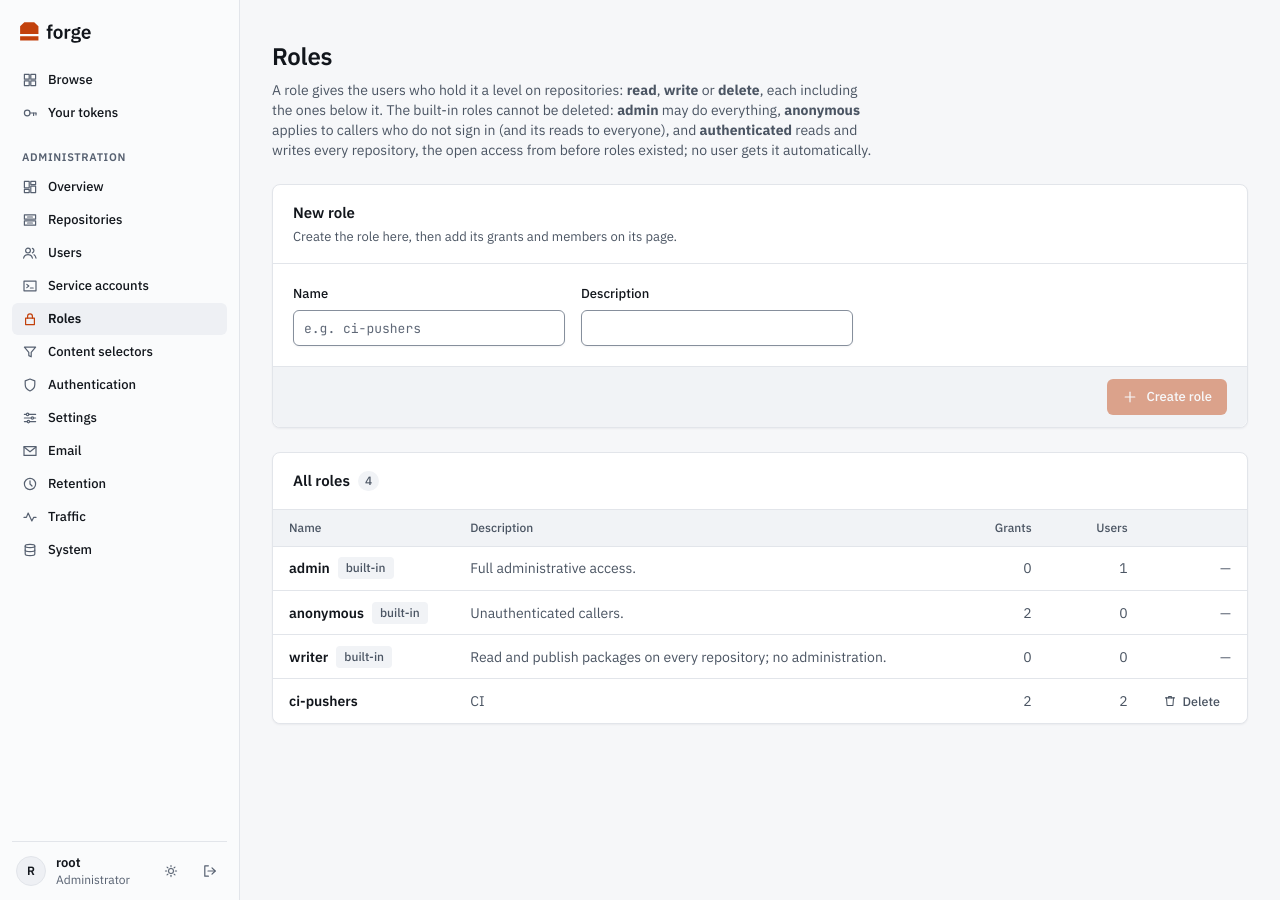
it: admin roles › creates a role and opens it
Type "deployers" into the field labelled "Name" at [429, 328], box [293,310,565,346]
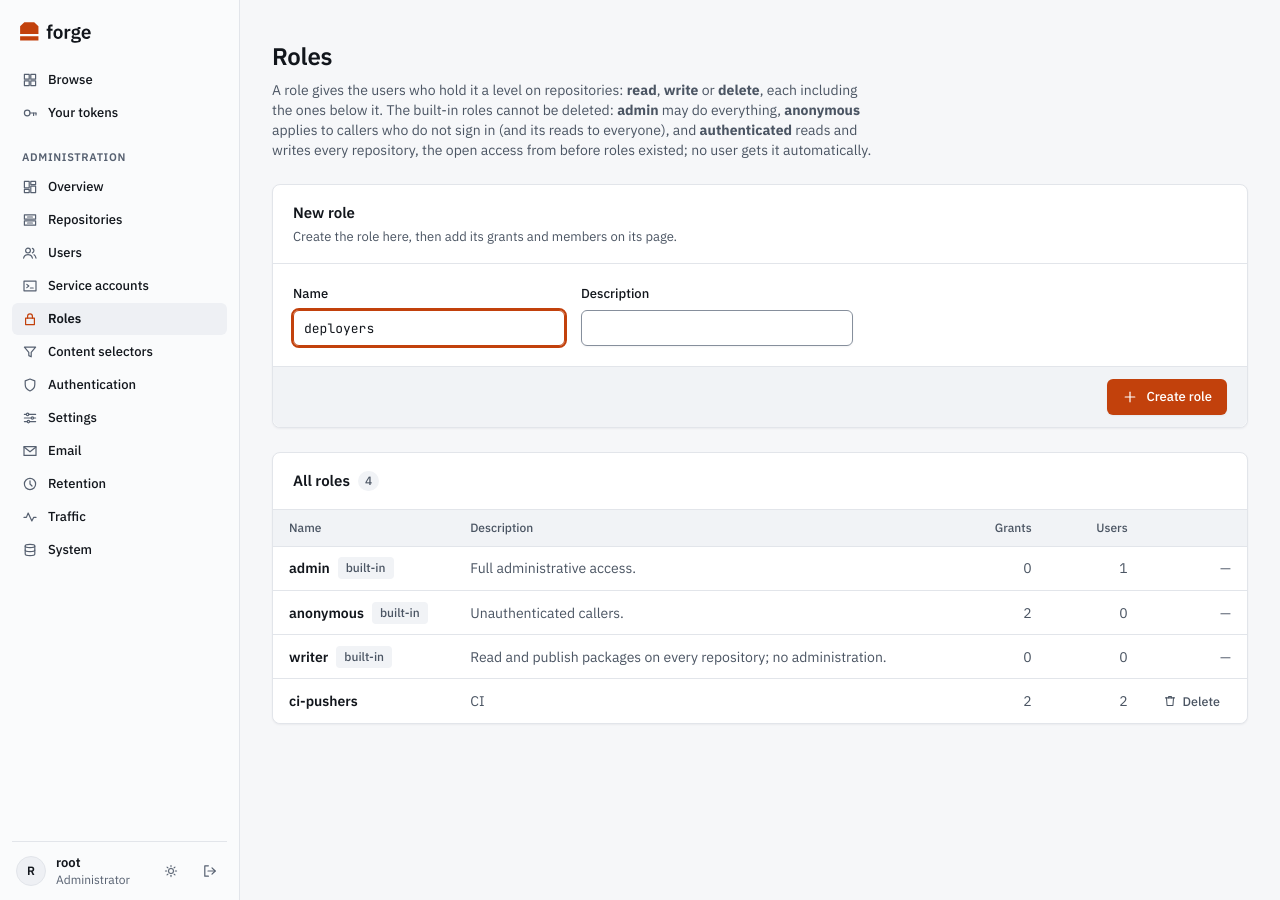
Type "Pushes releases" into the field labelled "Description" at [717, 328], box [581,310,853,346]
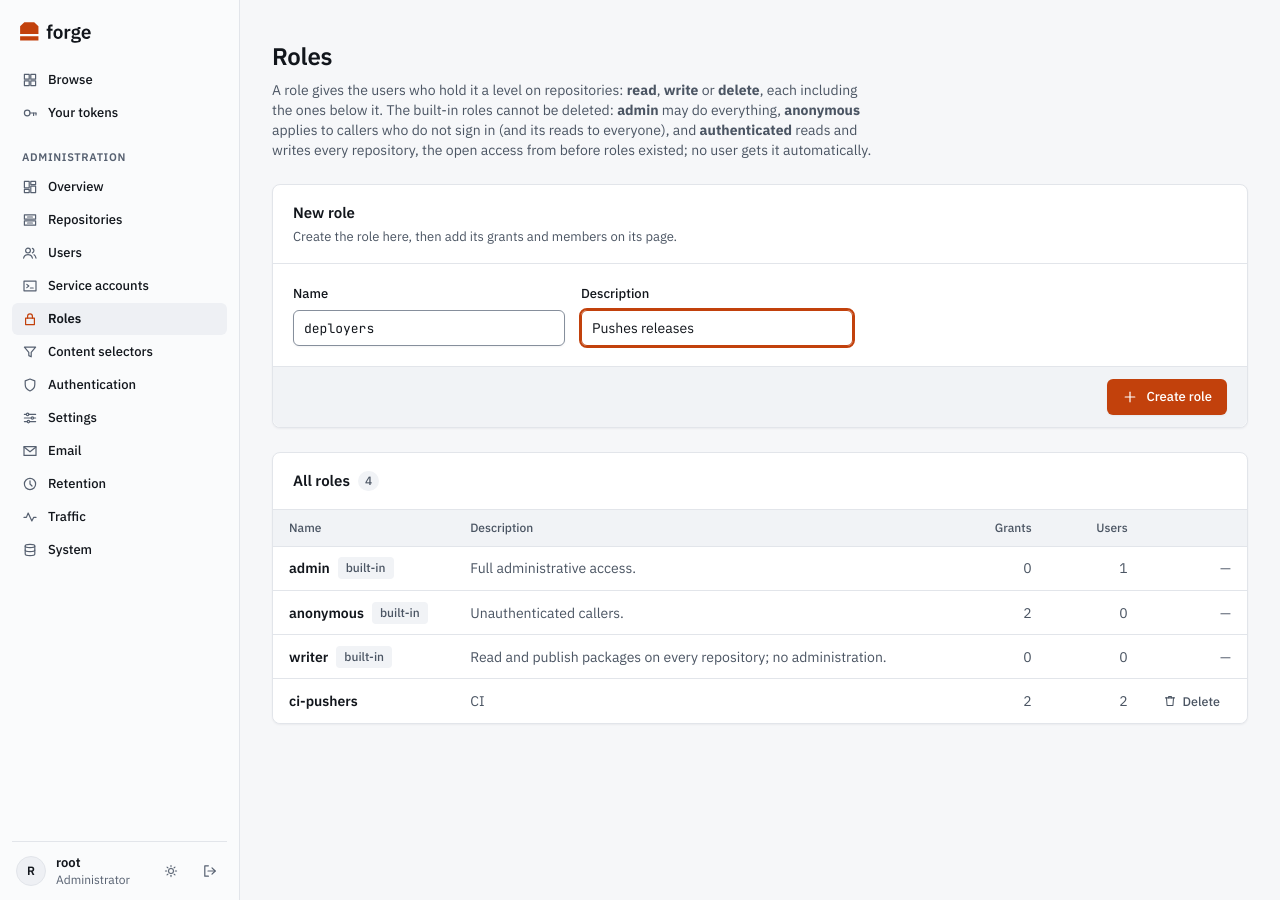
Click the button "Create role" at [1167, 397], box [1107,379,1227,415]
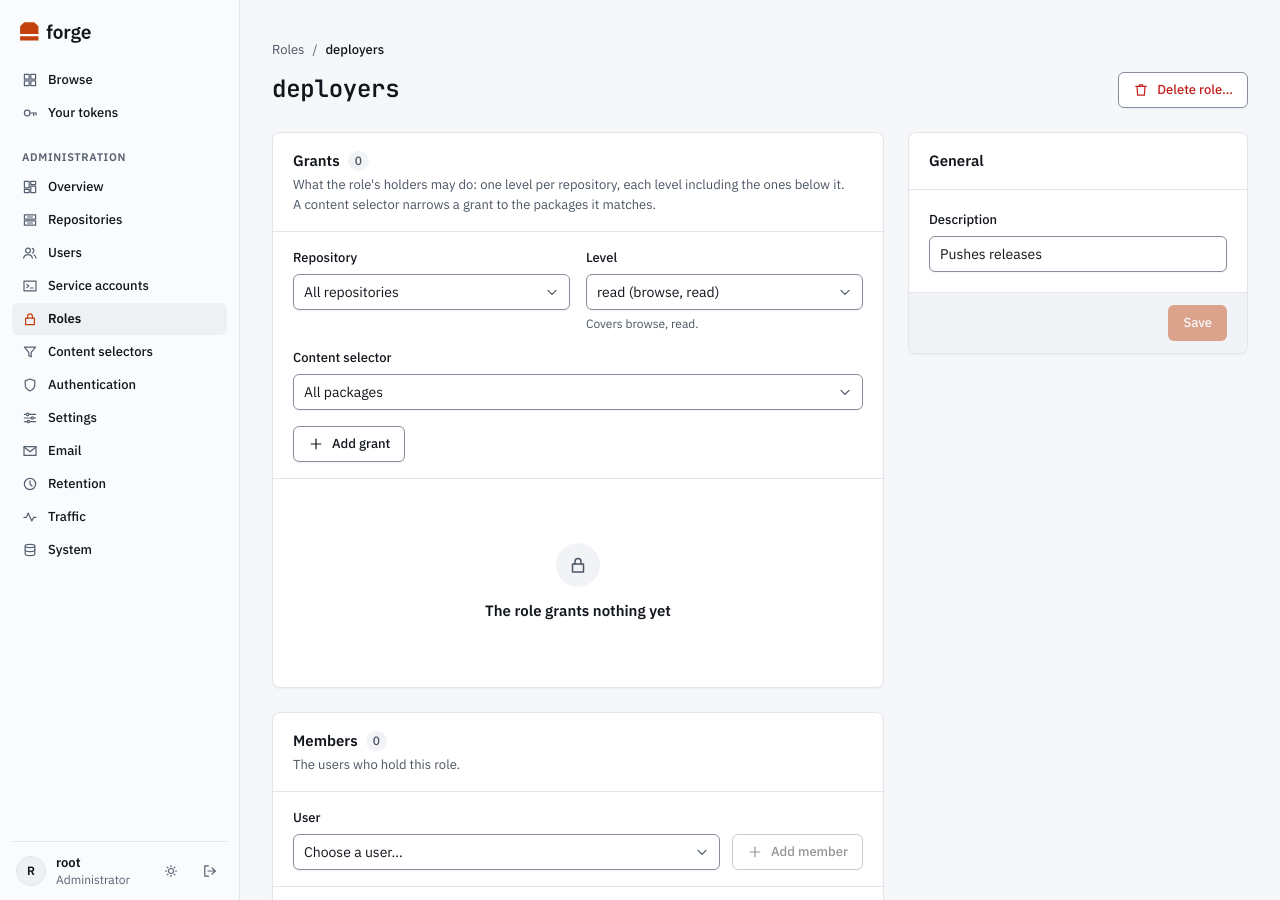
Now the heading "deployers" is shown, box [272,72,400,105]
